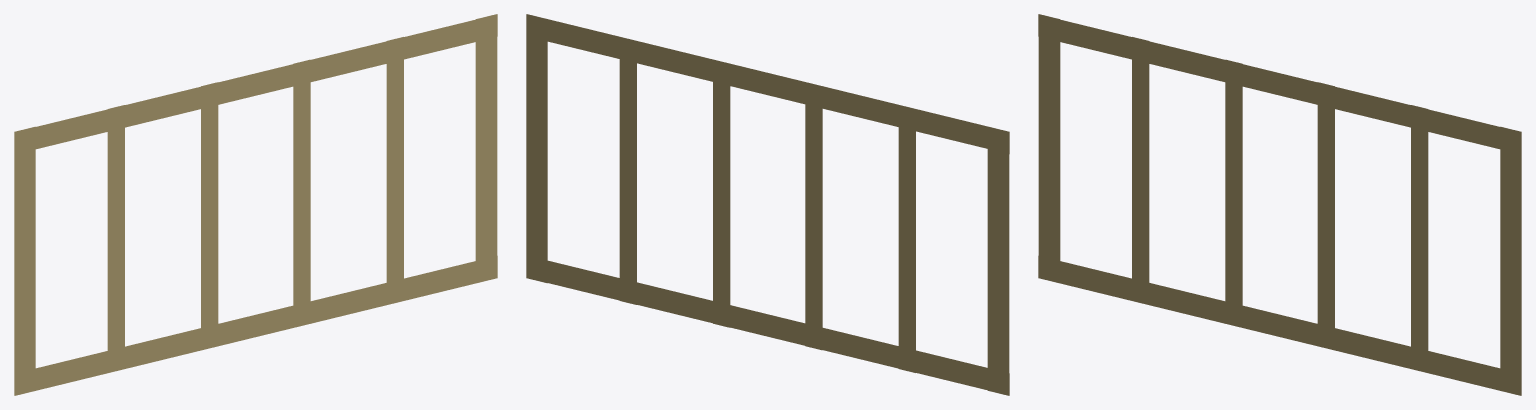
Rendered from endo_return_grate.obj.
3 views of the same model, side by side, from view 1: azimuth 30°, elevation 25°; view 2: azimuth 150°, elevation 25°; view 3: azimuth 330°, elevation 25° (orthographic).
Parts seen in each view (by area): view 1: endo_return_grate; view 2: endo_return_grate; view 3: endo_return_grate.
Part boxes in pixels (x1,y1,x2,y2): endo_return_grate: (14,14,497,395); endo_return_grate: (526,14,1009,395); endo_return_grate: (1038,14,1521,395).
Size of the model in its own units: 4.5 by 2.35 by 0.006.
